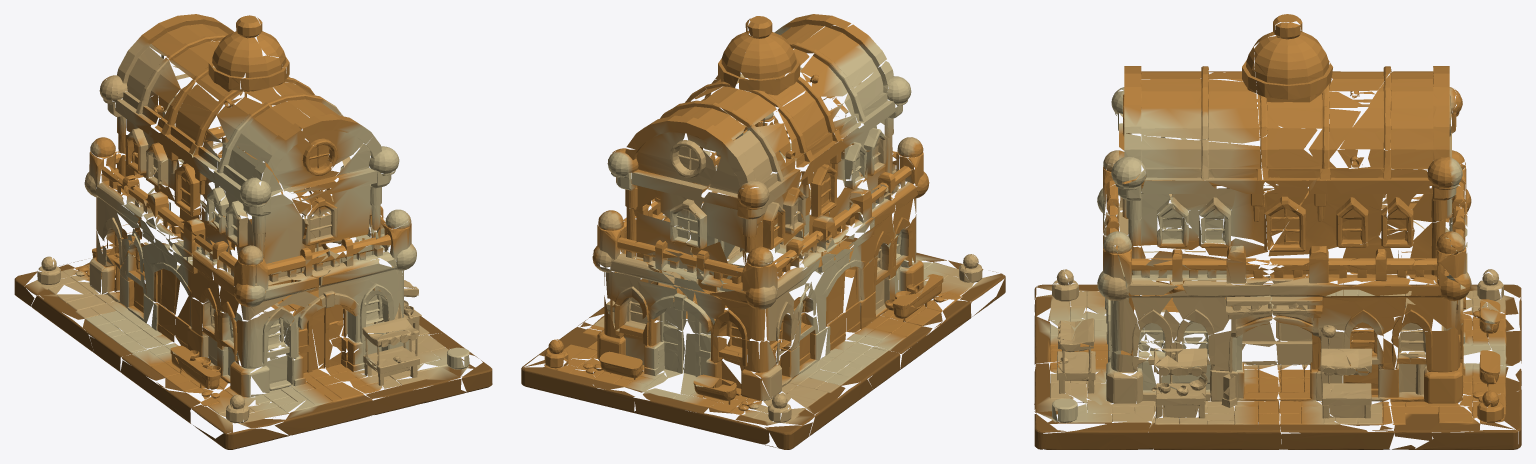
File: hero-market.glb
3 renders of one model, left to right at view 1: azimuth 30°, elevation 25°; view 2: azimuth 150°, elevation 25°; view 3: azimuth 270°, elevation 25°, orthographic. The views are drawn at different scales.
Visible parts, largest first — view 1: world; view 2: world; view 3: world.
Boxes of the visible parts, x1,y1,x2,y2 form: world: (14, 14, 492, 449); world: (521, 14, 1005, 449); world: (1034, 14, 1521, 449).
Bounding box in the file's own units: 1.93 × 2.19 × 2.7.
